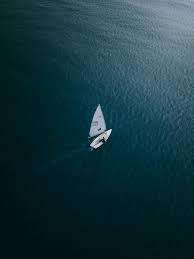boat: (87, 103, 113, 149)
